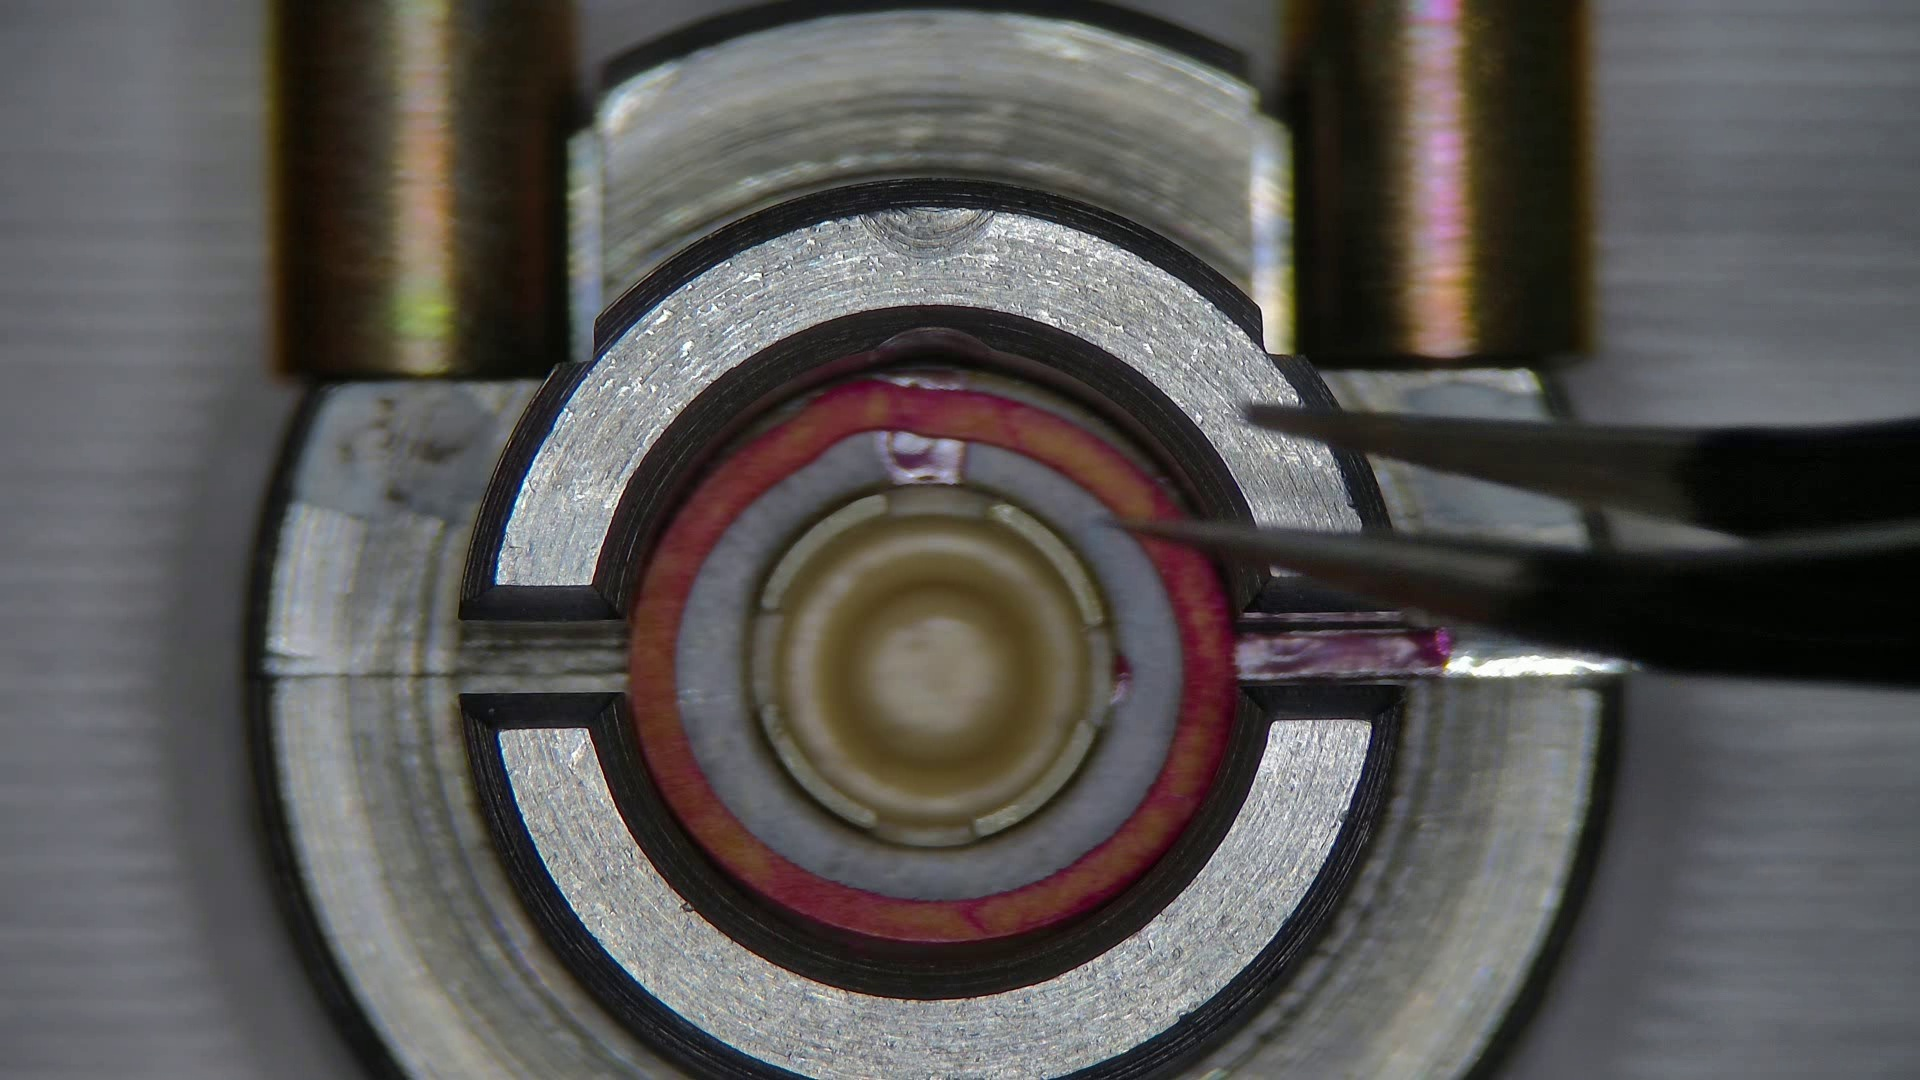GreyOring: (629, 378, 1236, 945)
YellowOring: (678, 434, 1178, 899), (876, 371, 1168, 488)
